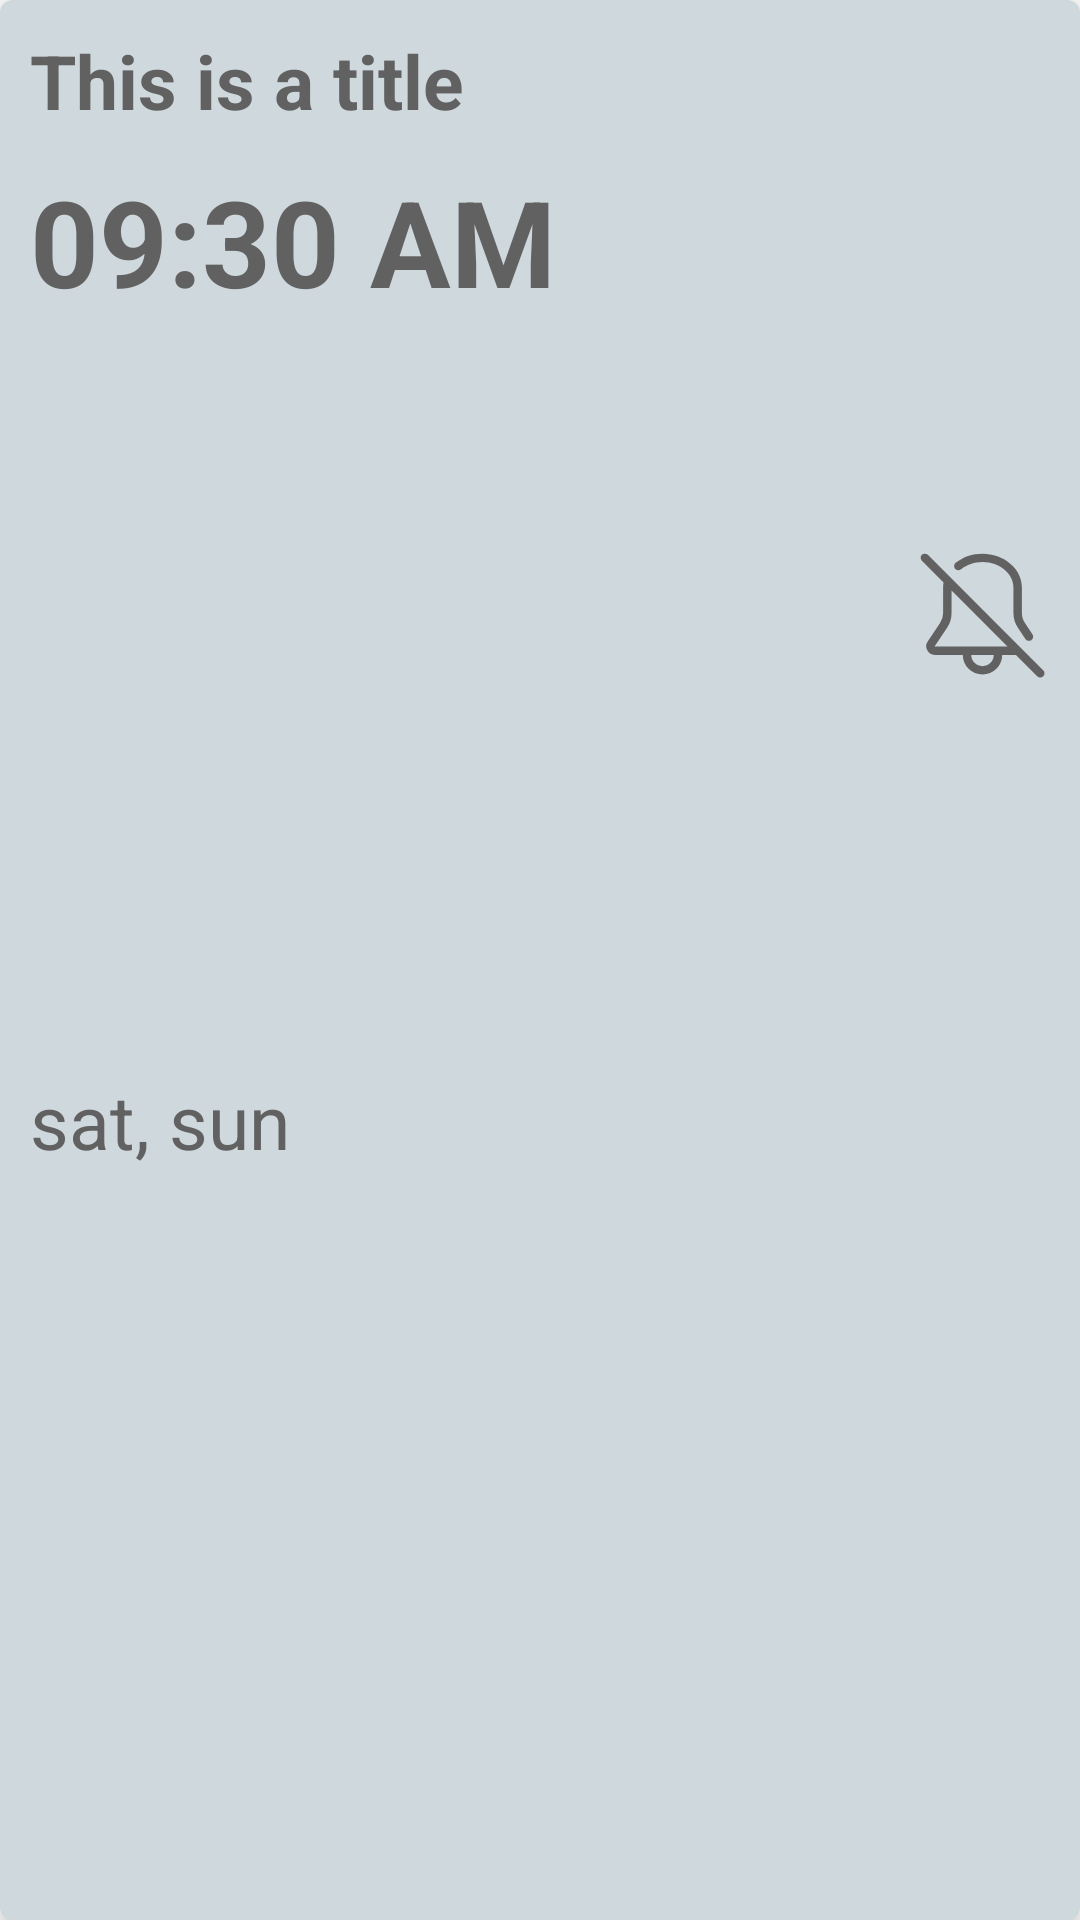

Named icons in this screenshot (1080px×1920px) and their bounding boxes, (x1, y1, x2, y2):
no ring: (920, 553, 1045, 678)
